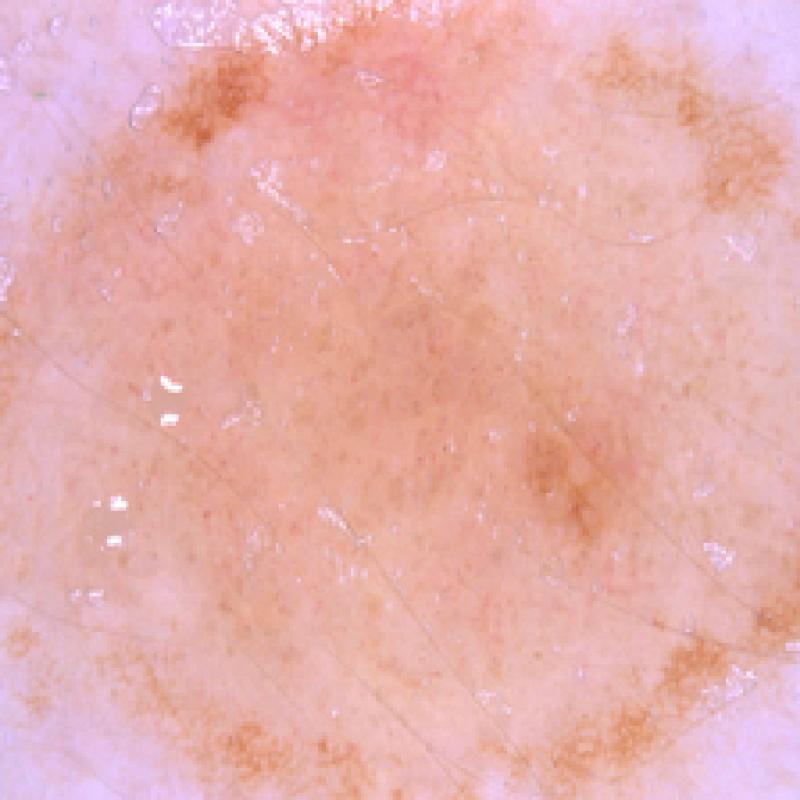benign: (9, 10, 790, 786)
